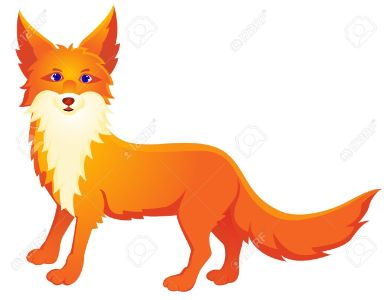fox: (10, 3, 381, 289)
